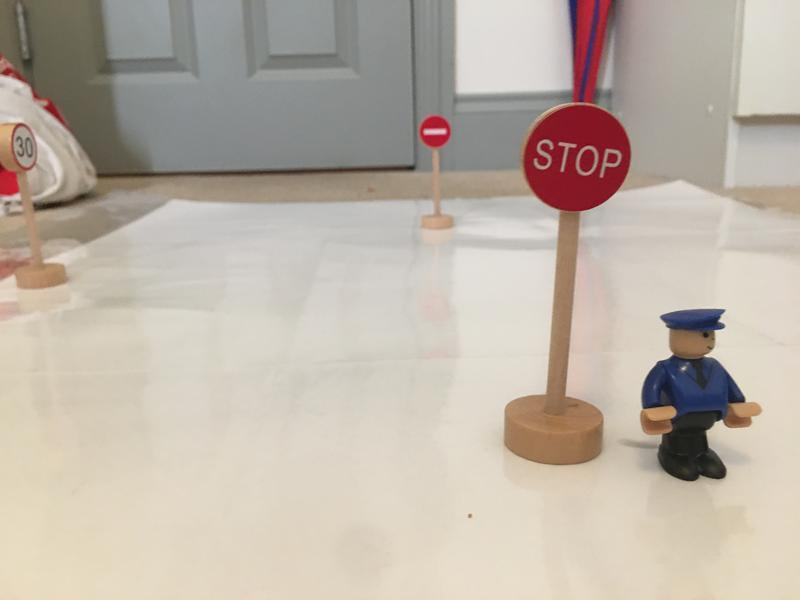Traffic_Sign_30: (10, 122, 39, 169)
Traffic_Sign_No_Entry: (419, 116, 452, 147)
Traffic_Sign_Stop: (524, 103, 631, 211)
person: (642, 305, 764, 486)
